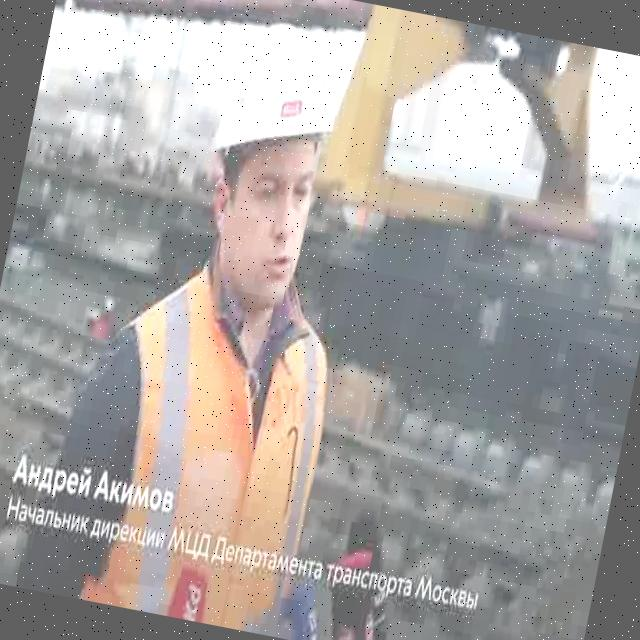vest: (64, 241, 356, 639)
